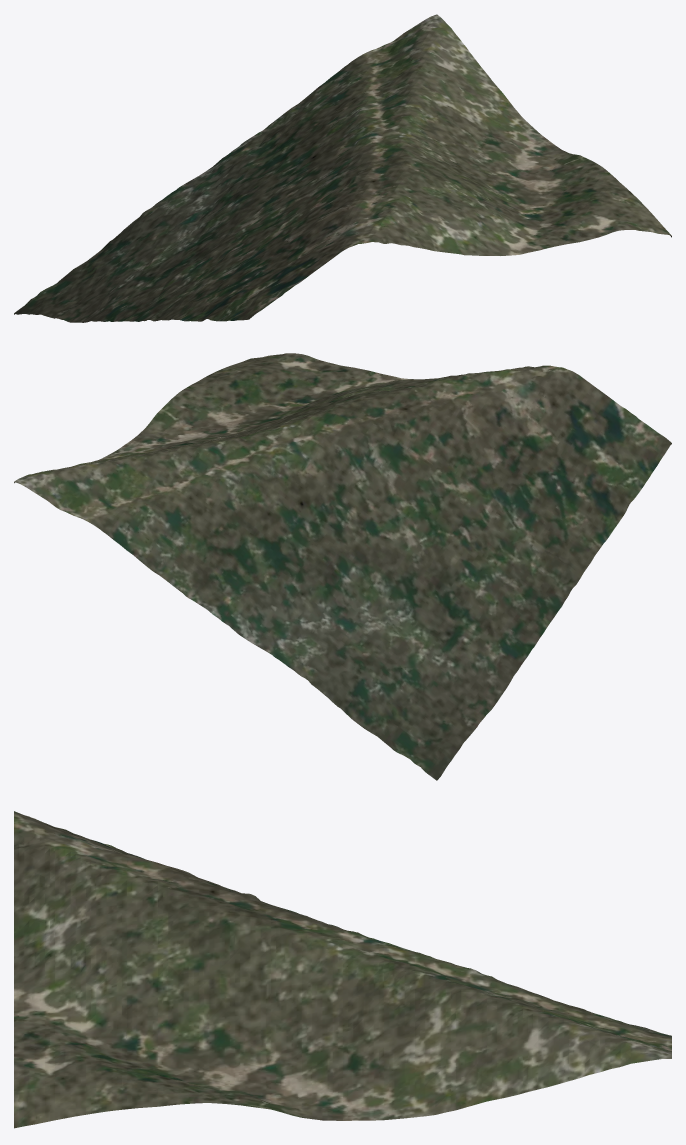
The picture shows the model from 3 angles, top to bottom: view 1: azimuth 30°, elevation 25°; view 2: azimuth 150°, elevation 25°; view 3: azimuth 270°, elevation 25°; orthographic projection. The views are drawn at different scales.
Bounding box in the file's own units: 250 × 122 × 241.
1 material, 1 textured.
